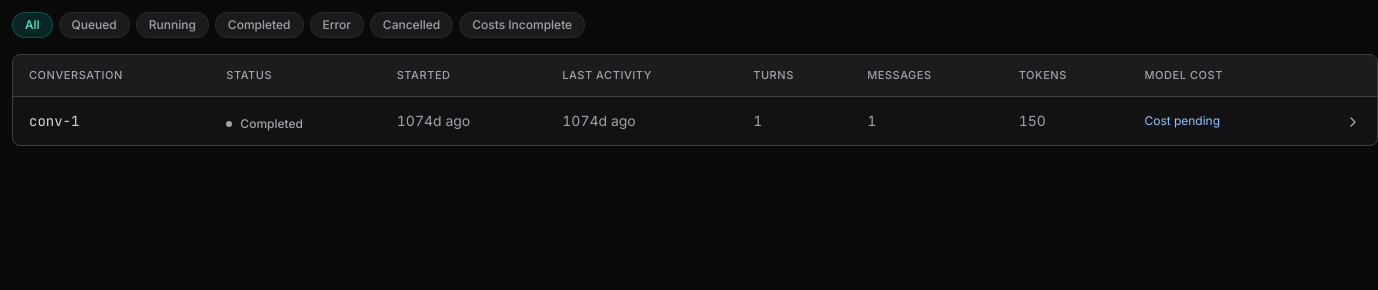
Scenario: AgentTurnsTab error vs empty › distinguishes pending conversation cost from a complete zero-cost turn
The image size is (1378, 290).
Click the row "conv-1 completed 1074d ago 1074d ago 1 1 150 Cost pending". click: [54, 120]
box: top-left (13, 96), bottom-right (1377, 144)
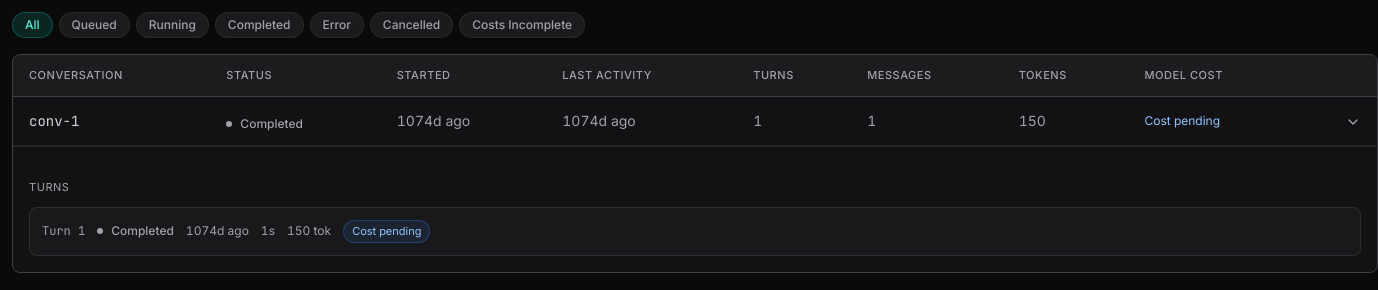
expect the text with test id "turn-cost" reads "Cost pending": met, box top-left (352, 224), bottom-right (421, 238)
